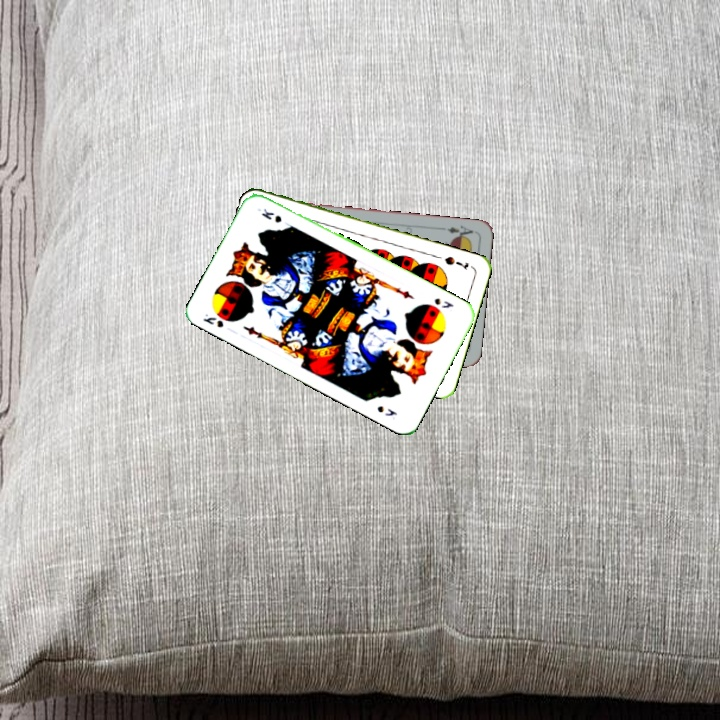EA: (443, 221, 476, 242)
S7: (440, 252, 471, 273)
SK: (199, 309, 226, 330), (430, 294, 456, 311)
